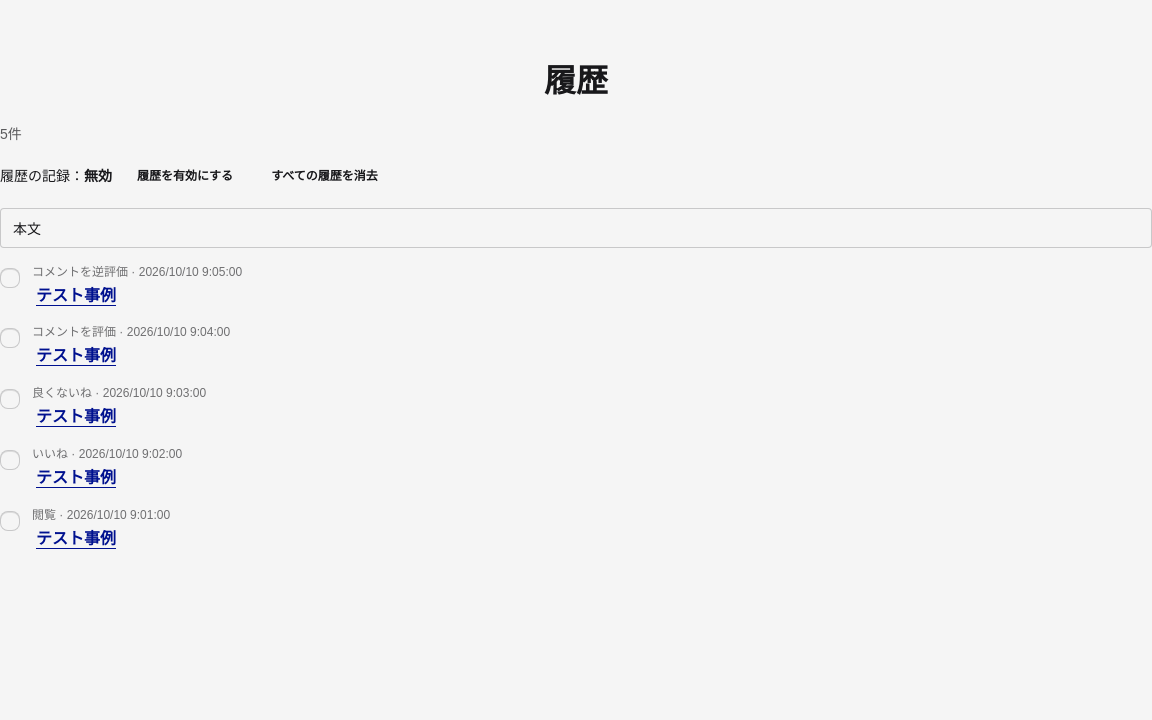
履歴の表示と検索 › 選んだ閲覧とコメント評価をまとめて消去し、他の履歴と検索語を保つ
Click the checkbox named "履歴を選択（コメントを逆評価" at (10, 278), box x1=0 y1=268 x2=20 y2=288
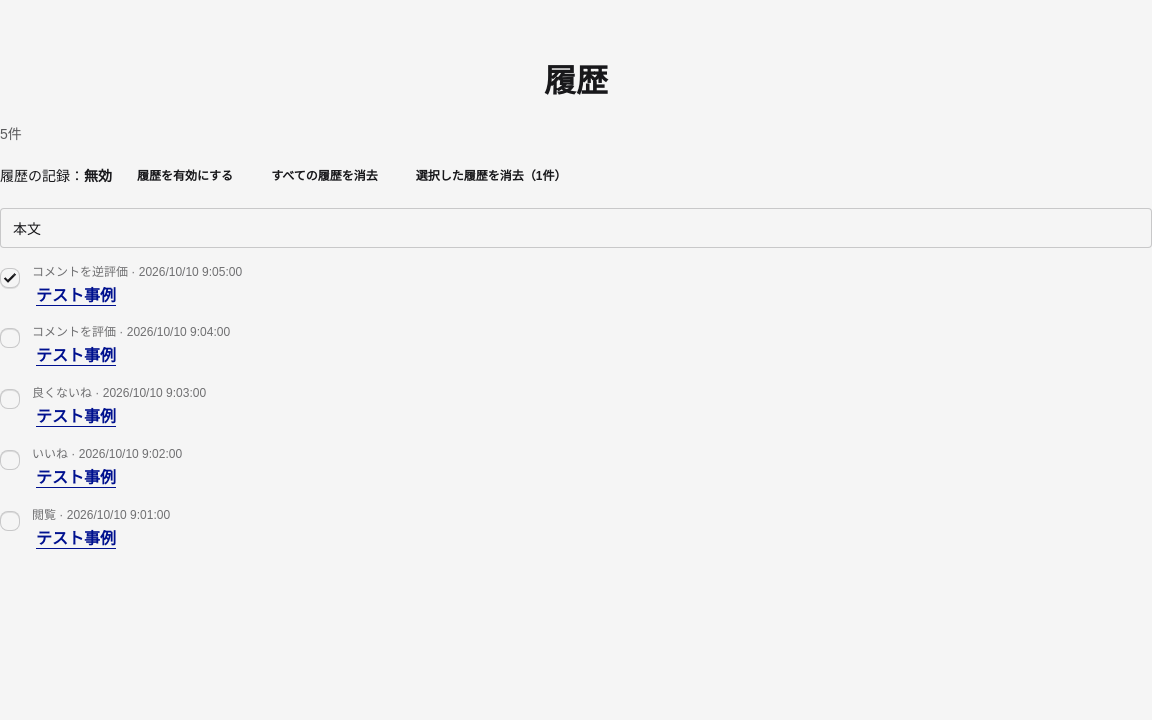
Click the checkbox named "履歴を選択（閲覧" at (10, 521), box x1=0 y1=511 x2=20 y2=531
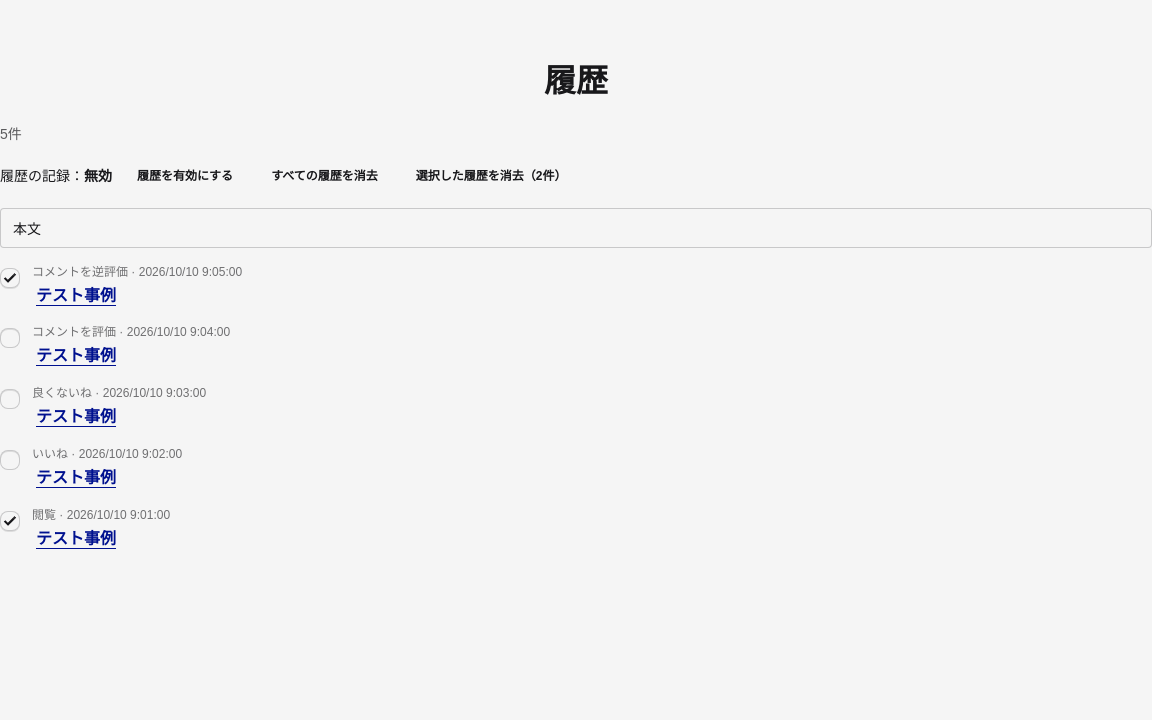
Click the button "選択した履歴を消去（2件）" at (491, 176), box x1=403 y1=160 x2=580 y2=192
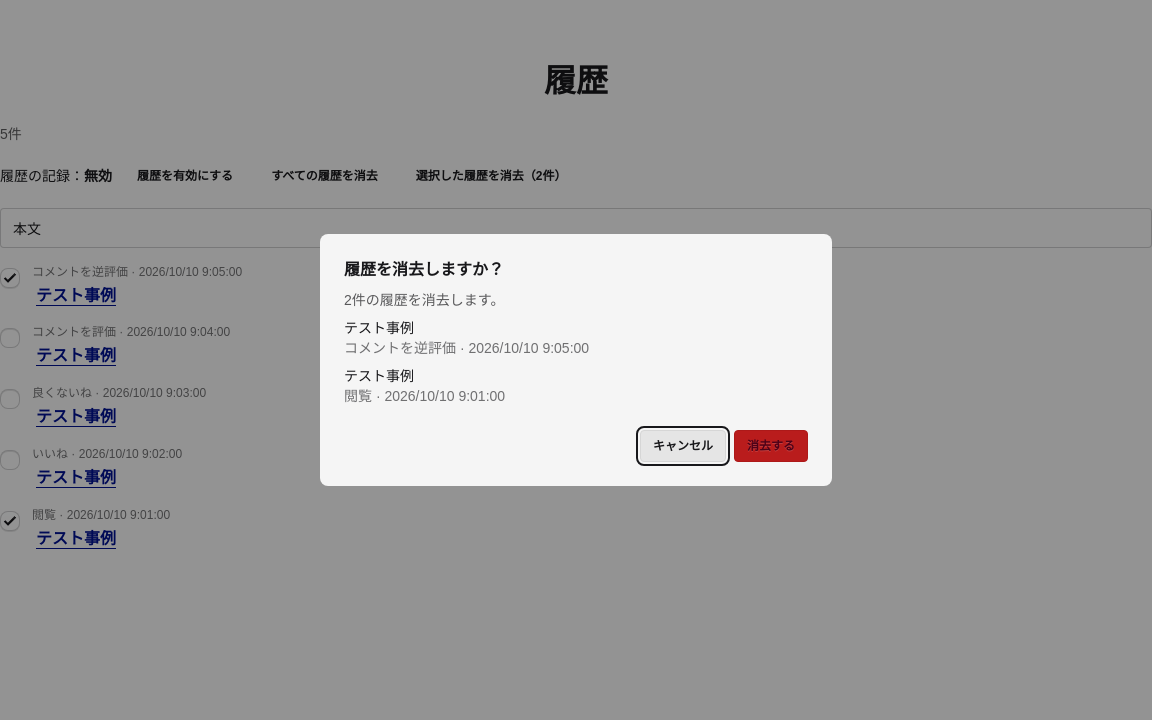
Expected: the number of list items "テスト事例" is 2, x1=344 y1=320 x2=589 y2=356; x1=344 y1=368 x2=505 y2=404
Expected: the text "コメントを逆評価 · 2026/10/10 9:05:00" is shown, x1=344 y1=340 x2=589 y2=356
Click the button "消去する" at (771, 446), box x1=734 y1=430 x2=808 y2=462
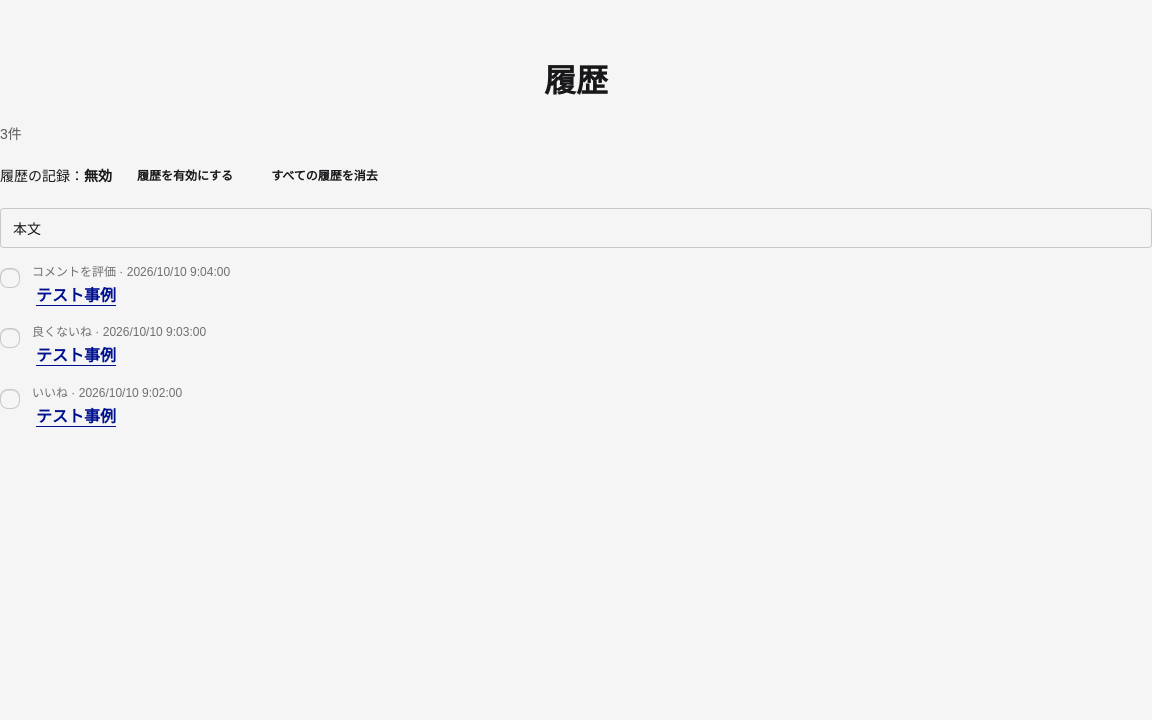
Expected: the dialog is gone
Expected: the number of links "テスト事例" is 3, x1=32 y1=282 x2=120 y2=308; x1=32 y1=343 x2=120 y2=368; x1=32 y1=404 x2=120 y2=429
Expected: the button "選択した履歴を消去" is gone
